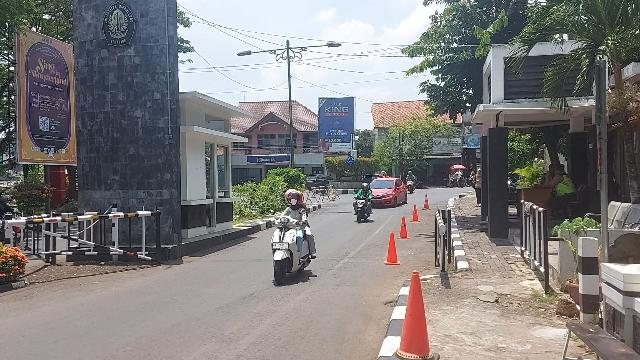helm: (292, 193, 305, 207), (285, 190, 297, 205), (363, 184, 370, 192)
motor: (270, 210, 317, 286), (354, 197, 374, 226)
